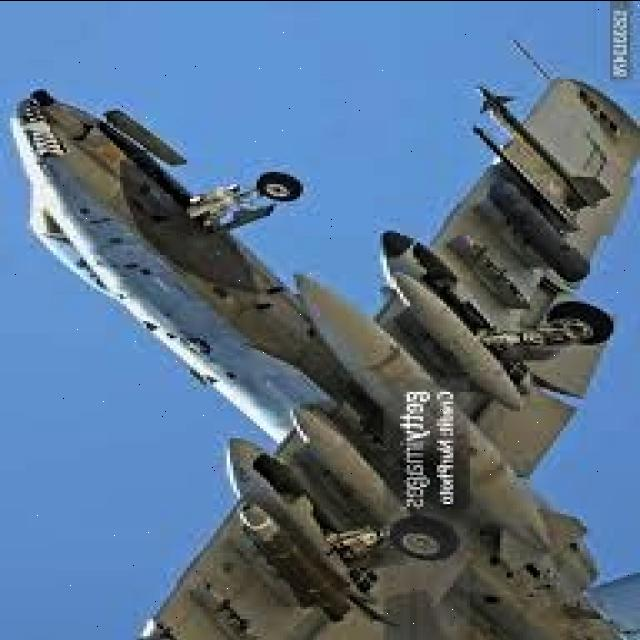A10: (10, 19, 640, 640)
